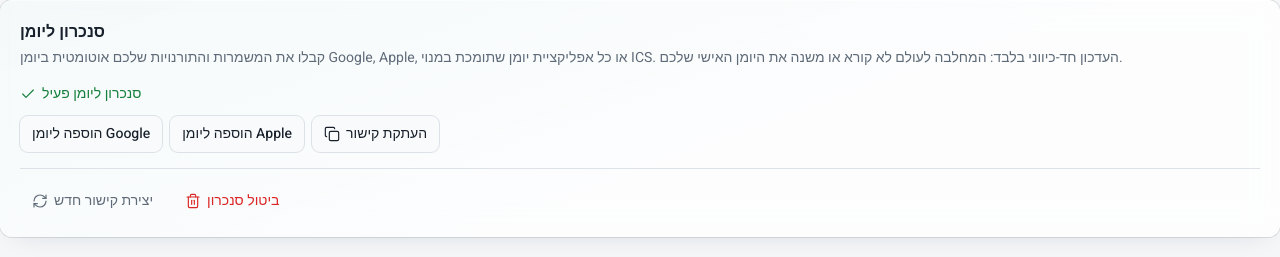
Scenario: CalendarSyncSection — enabled › copy link writes the plain URL to the clipboard and shows transient confirmation
Click the button "העתקת קישור" at (376, 134), box [312,116,439,152]
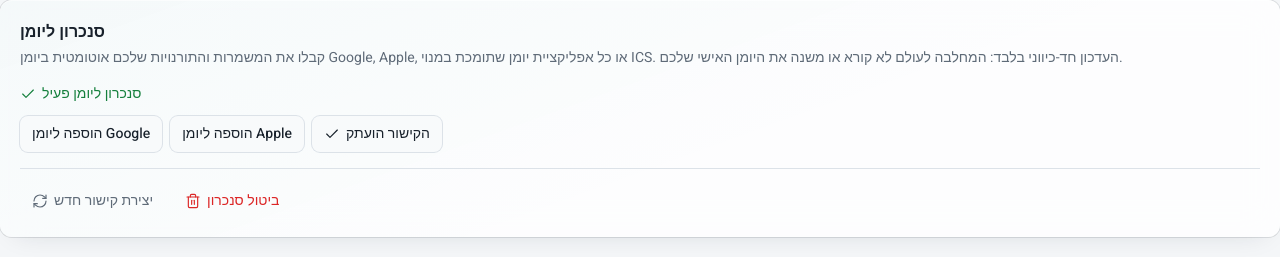
Check: the button "הקישור הועתק" is shown, box [312,116,442,152]
